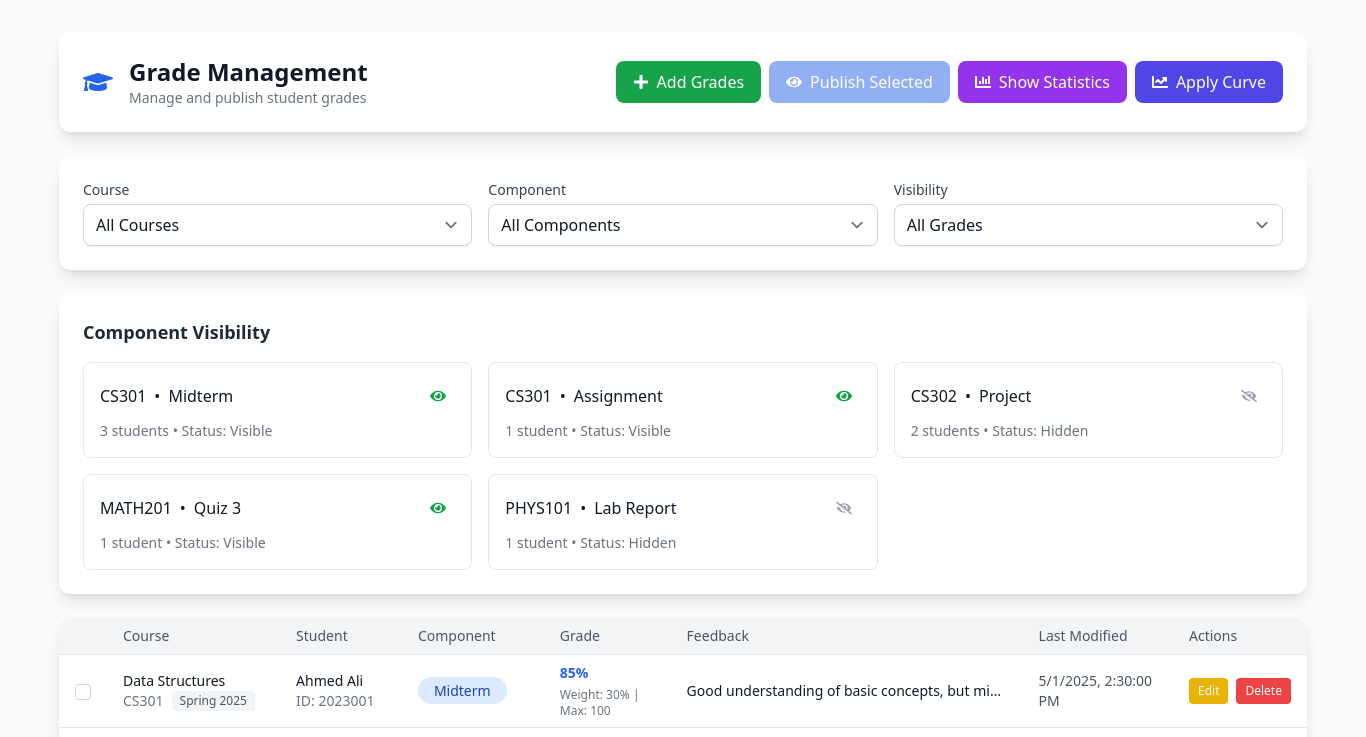
Test: GradeList (faculty) › displays grade distribution stats
The width and height of the screenshot is (1366, 737).
Click the button "Show Statistics" at point(1042, 82), box [958,61,1127,103]
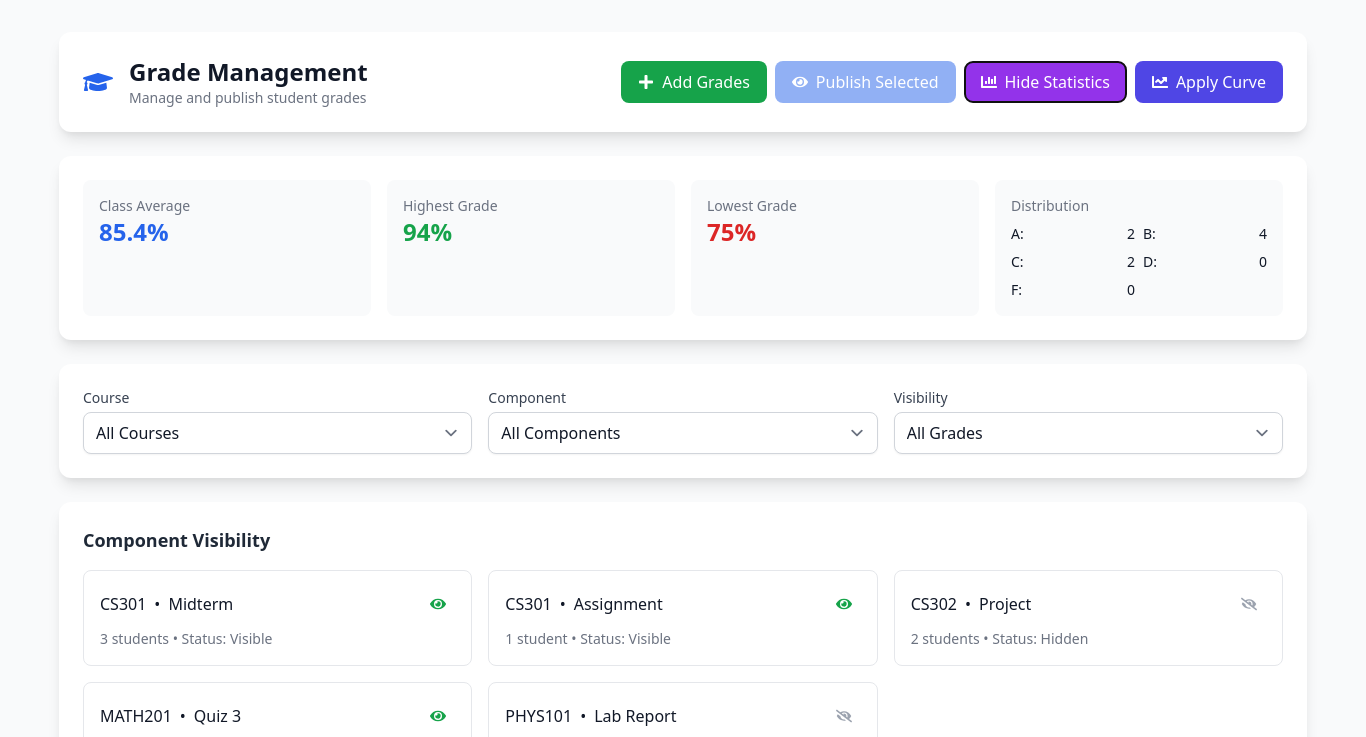
Now the text "A:" is shown, box [1011,224,1024,244]
Now the text "F:" is shown, box [1011,280,1022,300]
